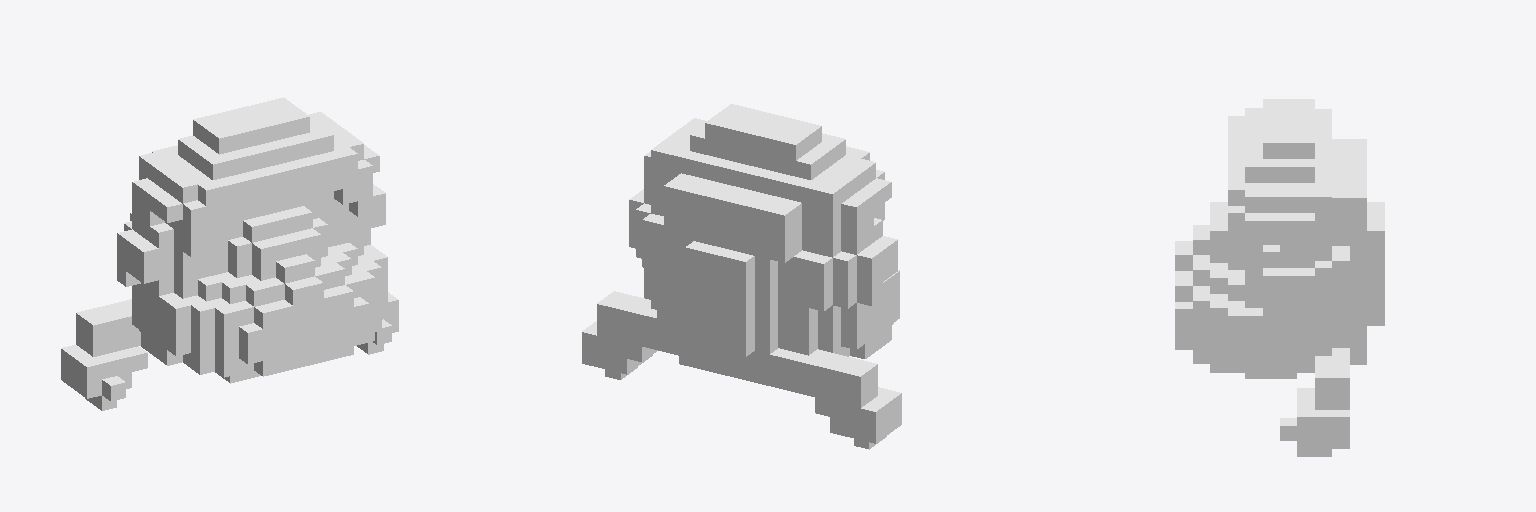
File: doll_head.obj
3 views of the same model, side by side, from view 1: azimuth 30°, elevation 25°; view 2: azimuth 150°, elevation 25°; view 3: azimuth 270°, elevation 25° (orthographic).
Parts seen in each view (by area): view 1: object 1; view 2: object 1; view 3: object 1.
Boxes of the visible parts, x1=… form: object 1: x1=61, y1=97, x2=398, y2=410; object 1: x1=582, y1=104, x2=901, y2=449; object 1: x1=1175, y1=99, x2=1384, y2=456.
Size of the model in its own units: 2 by 1.7 by 1.2.